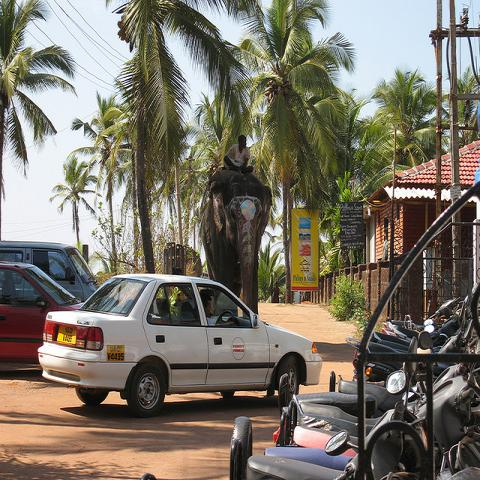car: (35, 273, 325, 418), (0, 259, 84, 363), (0, 243, 96, 300)
motorcycle: (228, 373, 479, 475), (273, 409, 432, 471), (329, 369, 405, 419), (382, 298, 464, 339), (346, 333, 411, 382), (293, 392, 359, 438), (435, 295, 476, 357), (262, 442, 357, 467), (404, 294, 461, 331), (294, 393, 375, 418), (381, 316, 423, 332)
